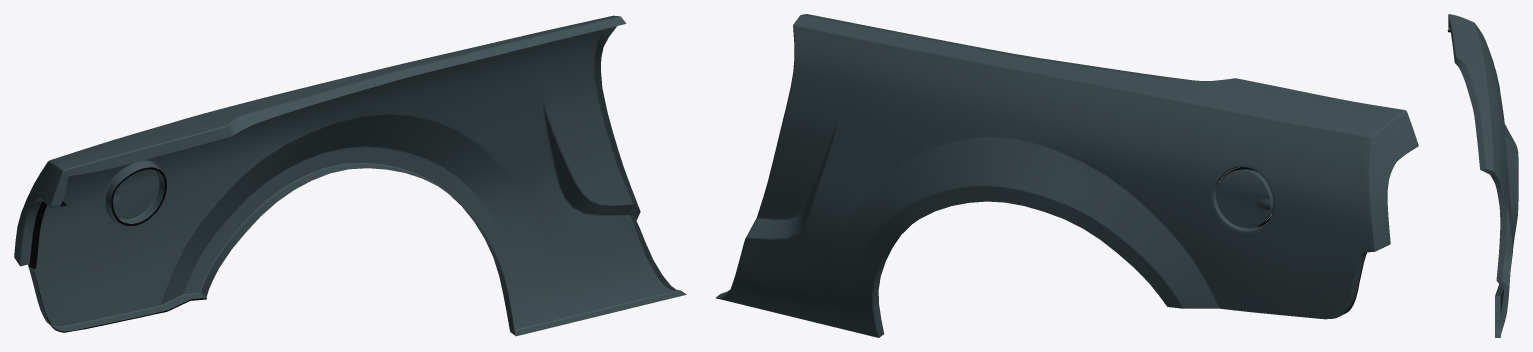
The picture shows the model from 3 angles, left to right: view 1: azimuth 30°, elevation 25°; view 2: azimuth 150°, elevation 25°; view 3: azimuth 270°, elevation 25°; orthographic projection. The views are drawn at different scales.
Parts seen in each view (by area): view 1: P222_15_381B_L_1_DaS_P222_15_381B_L, P222_15_381B_L_1_DaS_P222_15_381B_L_E, P222_15_381B_L_P222_15_381B_L_2_D; view 2: P222_15_381B_L_1_DaS_P222_15_381B_L, P222_15_381B_L_1_DaS_P222_15_381B_L_E; view 3: P222_15_381B_L_1_DaS_P222_15_381B_L, P222_15_381B_L_1_DaS_P222_15_381B_L_E.
Part boxes in pixels (x1,y1,x2,y2): P222_15_381B_L_1_DaS_P222_15_381B_L: (14, 15, 686, 336); P222_15_381B_L_1_DaS_P222_15_381B_L_E: (19, 16, 678, 331); P222_15_381B_L_P222_15_381B_L_2_D: (28, 167, 206, 332); P222_15_381B_L_1_DaS_P222_15_381B_L: (716, 14, 1418, 337); P222_15_381B_L_1_DaS_P222_15_381B_L_E: (716, 15, 1418, 337); P222_15_381B_L_1_DaS_P222_15_381B_L: (1448, 14, 1518, 337); P222_15_381B_L_1_DaS_P222_15_381B_L_E: (1448, 14, 1518, 337).
Bounding box in the file's own units: 172 × 77.48 × 31.04.
